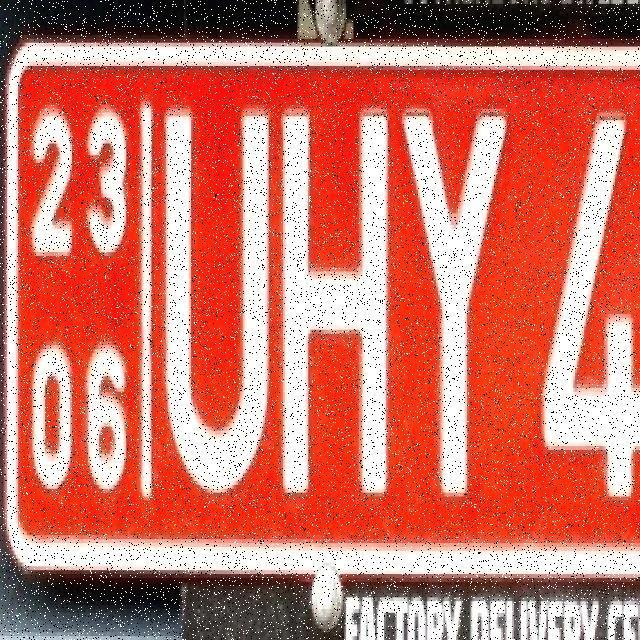LicensePlate: (3, 35, 640, 578)
